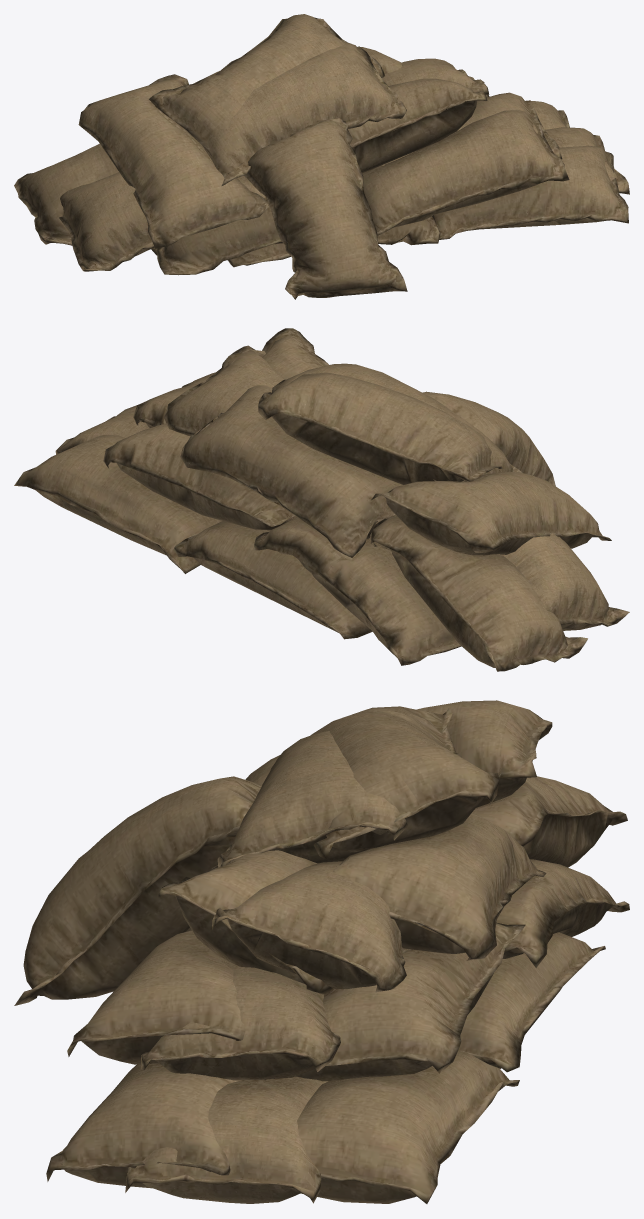
The model's file is sandbags.glb.
The picture shows the model from 3 angles, top to bottom: view 1: azimuth 30°, elevation 25°; view 2: azimuth 150°, elevation 25°; view 3: azimuth 270°, elevation 25°; orthographic projection. The views are drawn at different scales.
Visible parts, largest first — view 1: pile_1, pile_0; view 2: pile_1, pile_0; view 3: pile_1, pile_0.
Part boxes in pixels (x1,y1,x2,y2): pile_1: (14,14,628,299); pile_0: (59,41,629,271); pile_1: (14,328,611,671); pile_0: (55,345,629,630); pile_1: (14,700,629,1203); pile_0: (125,731,412,1203).
Size of the model in its own units: 1.6 by 0.512 by 1.04.
2 materials, 2 textured.
